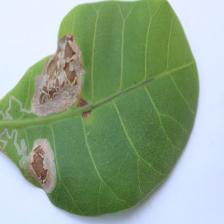leaf miner: (0, 0, 200, 217), (30, 33, 85, 117)
